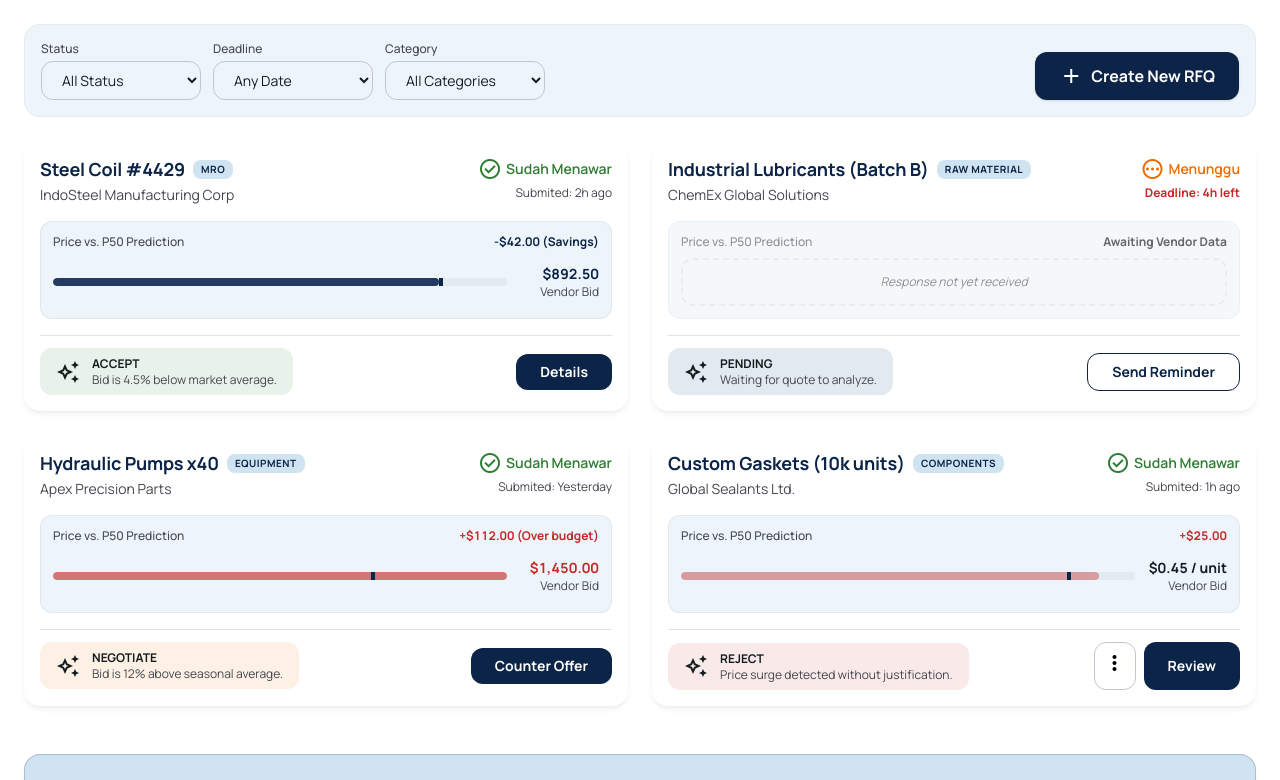
Scenario: RfqManagementPage › filters the list by status
Step 1. Select "Menunggu" in the dropdown labelled "Status" → (121, 80), box [41,61,201,100]
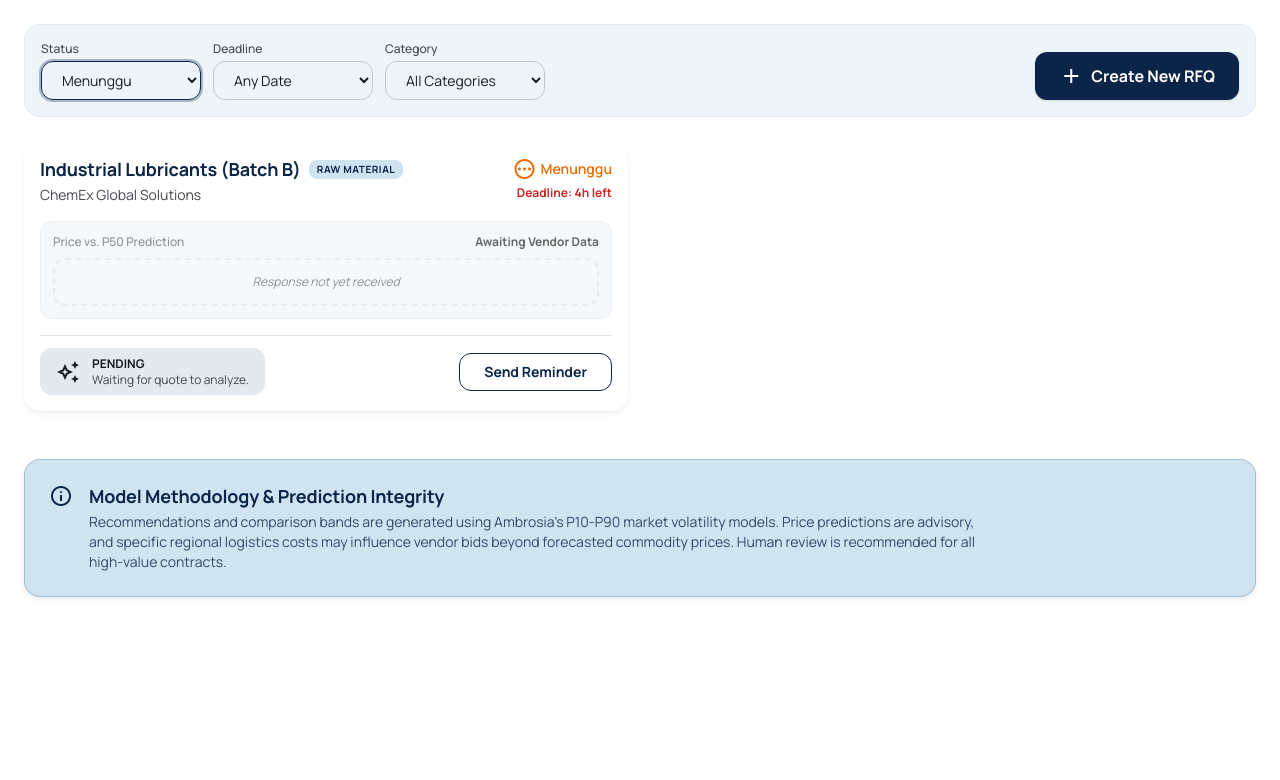
expect the heading "Industrial Lubricants (Batch B)" is shown: met, box [40,157,301,181]
expect the heading "Steel Coil #4429" is gone: met
